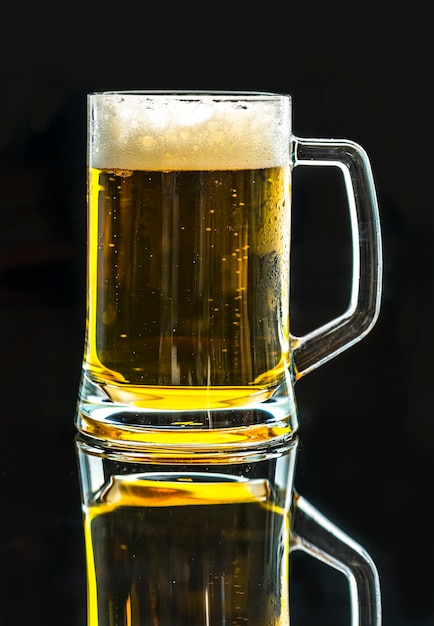alcohol: (69, 92, 384, 461)
